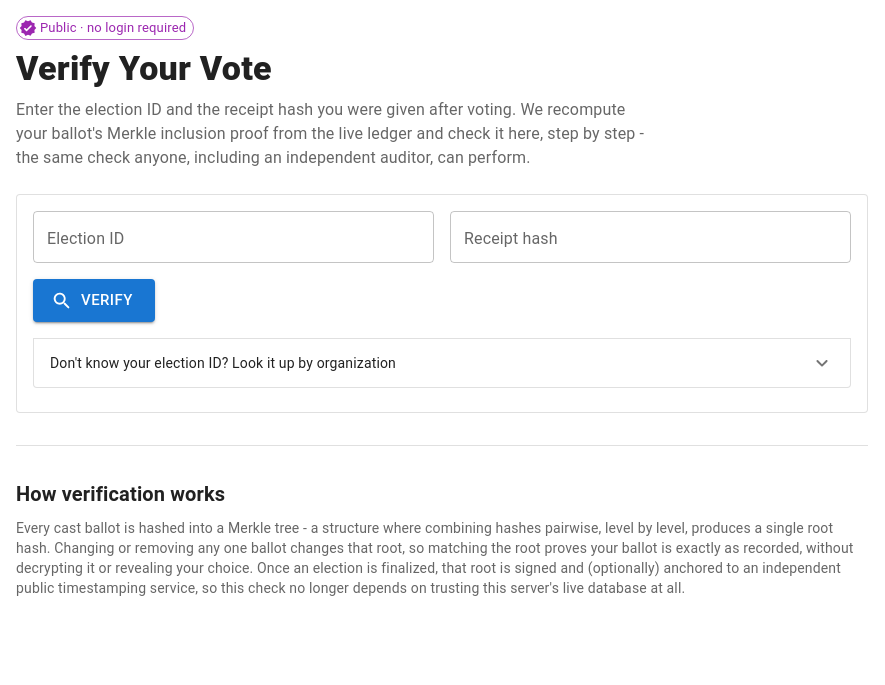
Test: Verify Page › Error Handling › shows a generic error message on network failure
Type "election-1" into the field labelled "Election ID" at (234, 237), box [33, 211, 434, 263]
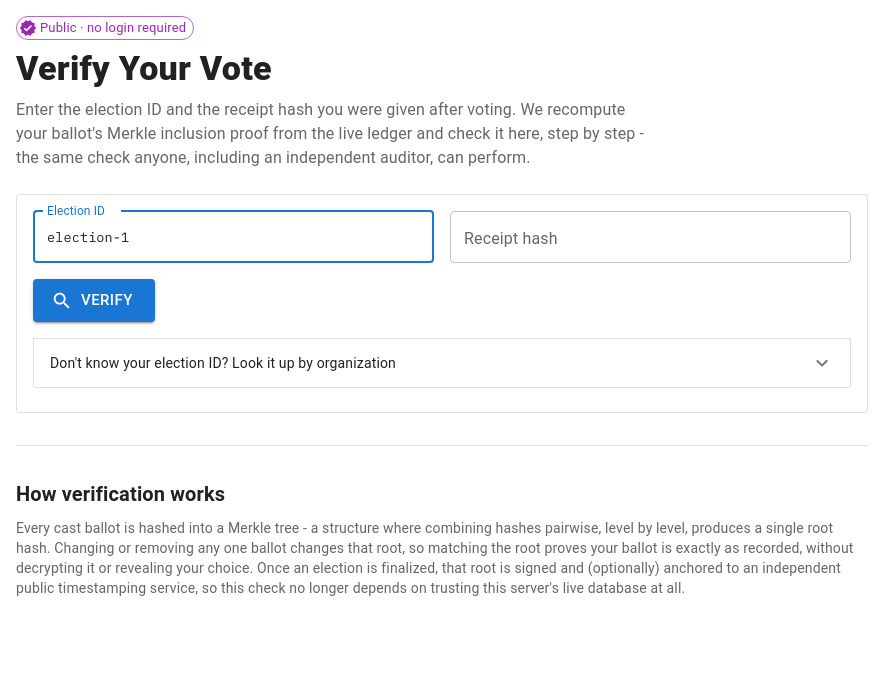
Type "receipt-hash-abc" into the field labelled "Receipt hash" at (650, 237), box [450, 211, 851, 263]
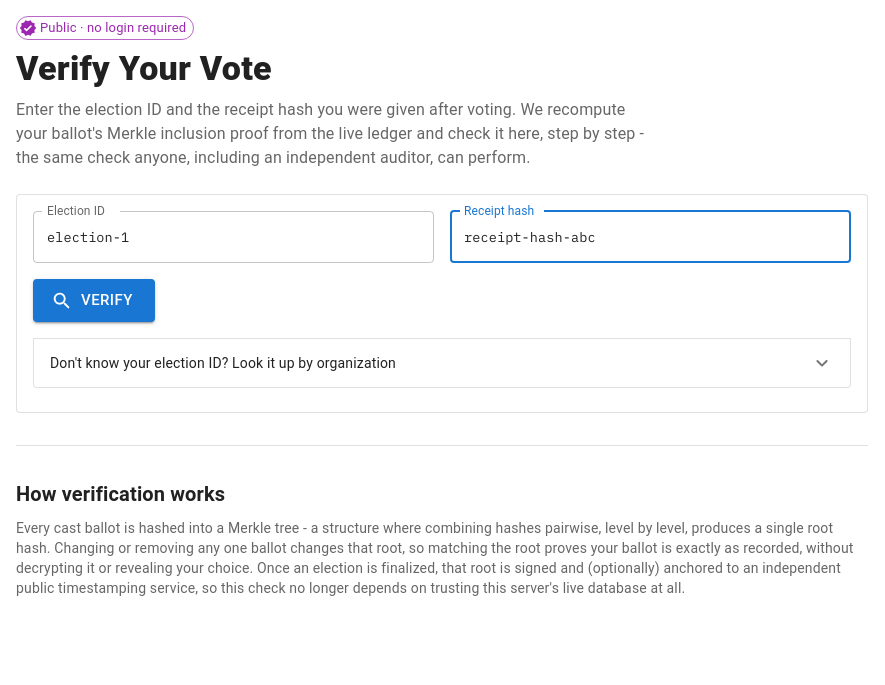
Click the button "Verify" at (94, 301), box [33, 279, 155, 322]
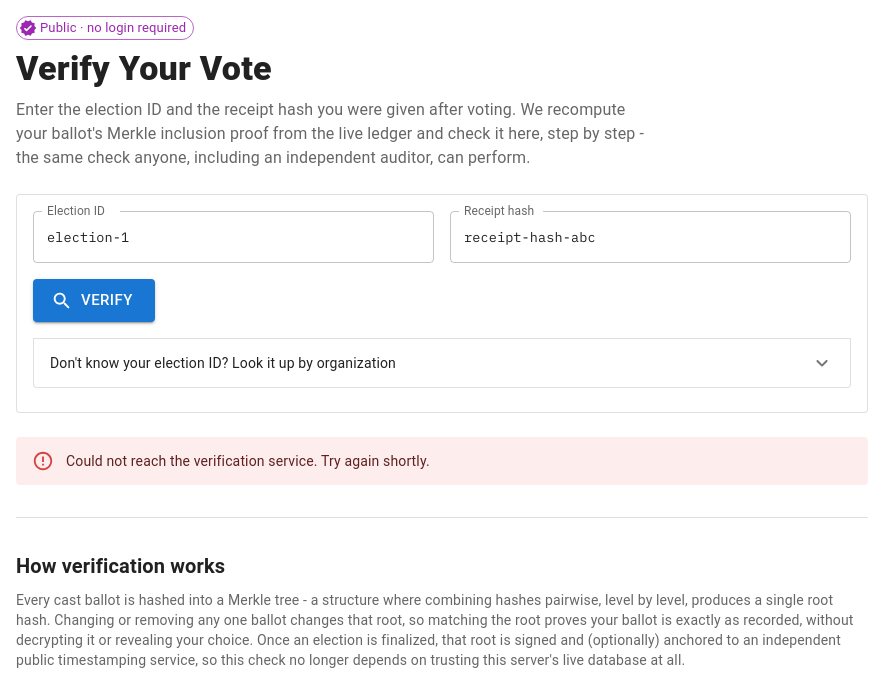
Result: the text "Could not reach the verification service. Try again shortly." is shown at [66, 453, 430, 469]
